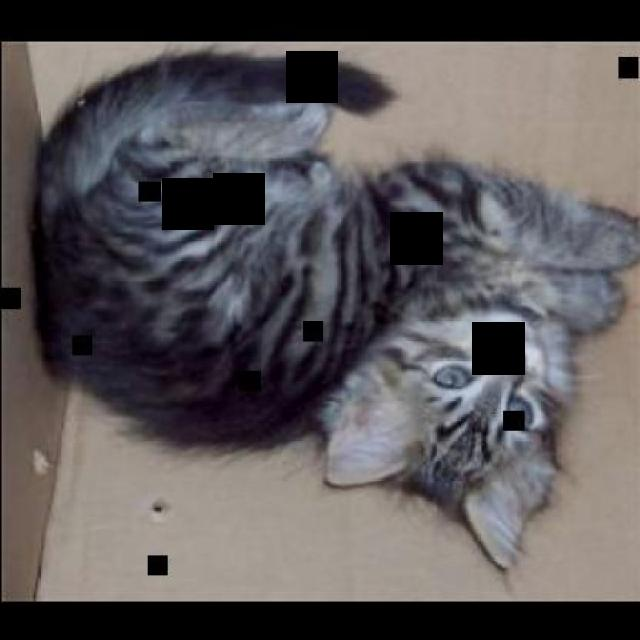unauthorized: (29, 48, 638, 572)
